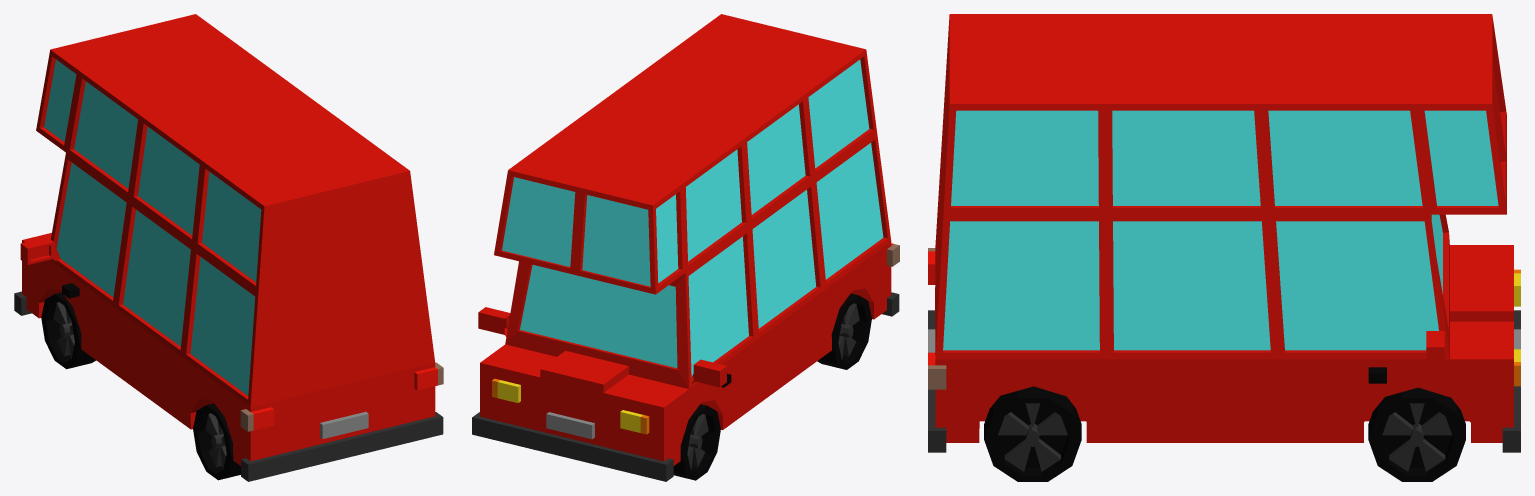
The model's file is ObsticleBus.fbx.
3 renders of one model, left to right at view 1: azimuth 30°, elevation 25°; view 2: azimuth 150°, elevation 25°; view 3: azimuth 270°, elevation 25°, orthographic. The views are drawn at different scales.
Visible parts, largest first — view 1: Cube.006; view 2: Cube.006; view 3: Cube.006.
Boxes of the visible parts, bbox=[...] form: Cube.006: bbox=[14, 14, 443, 481]; Cube.006: bbox=[472, 14, 899, 481]; Cube.006: bbox=[928, 14, 1520, 481].
Size of the model in its own units: 328 by 374 by 549.
Materials: 1 (1 with a texture image).
